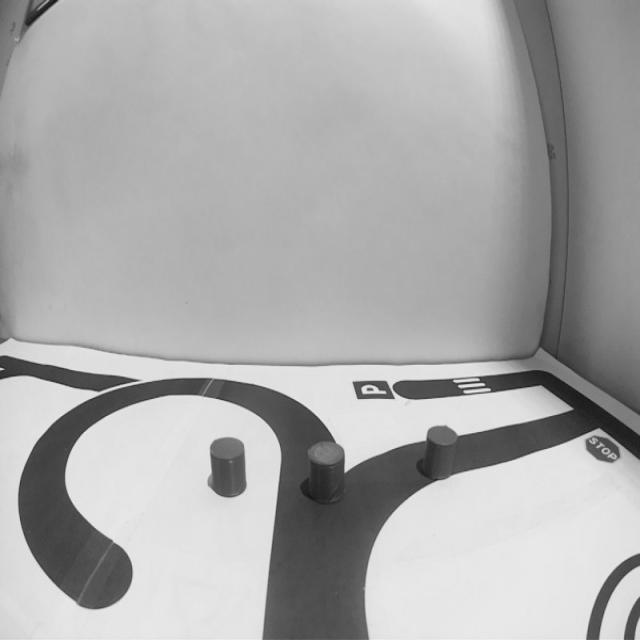cylinder: (306, 440, 347, 505), (208, 436, 248, 498), (422, 424, 459, 480)
